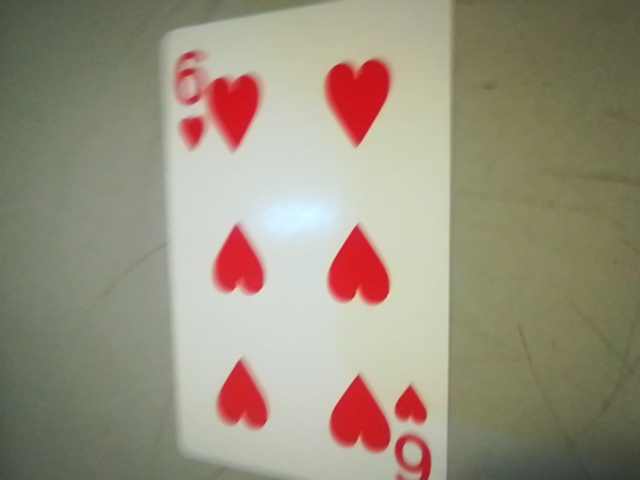hx 6: (387, 376, 441, 480)
